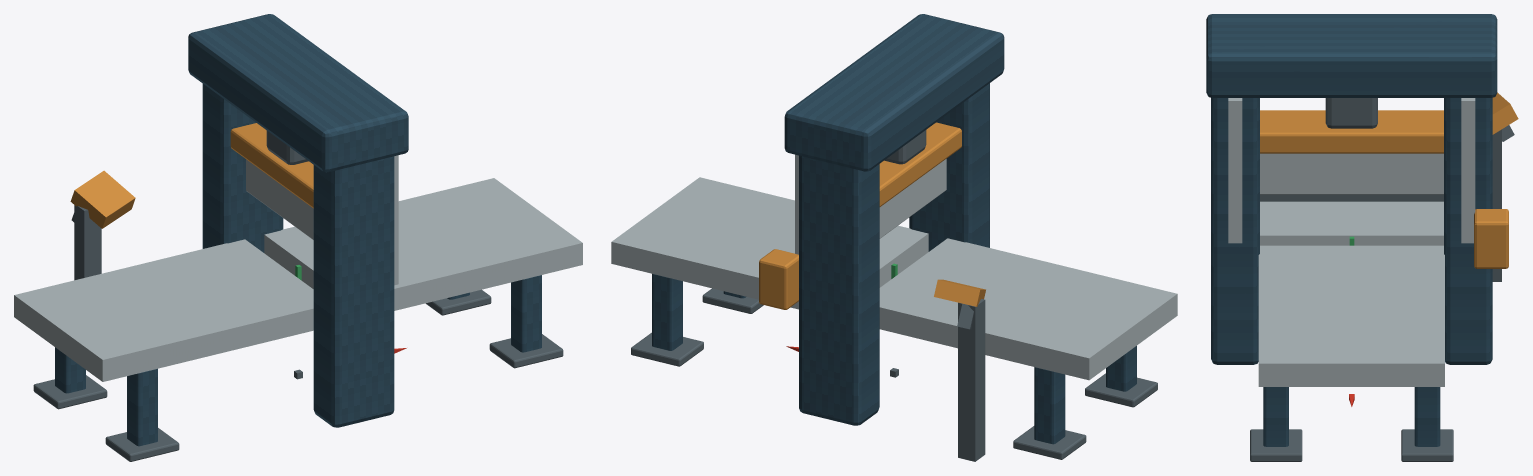
Rendered from shear-lod1.glb.
The picture shows the model from 3 angles, left to right: view 1: azimuth 30°, elevation 25°; view 2: azimuth 150°, elevation 25°; view 3: azimuth 270°, elevation 25°; orthographic projection. The views are drawn at different scales.
Parts seen in each view (by area): view 1: entry_table, right_column, head_beam, exit_table, left_column, blade_carriage, exit_right_leg, entry_right_leg, cutting_tool, service_pad, service_pedestal, exit_right_foot (+6 smaller); view 2: entry_table, left_column, head_beam, exit_table, right_column, service_pedestal, blade_carriage, entry_left_leg, exit_left_leg, cutting_tool, front_control, entry_left_foot (+6 smaller); view 3: exit_table, head_beam, right_column, left_column, entry_table, cutting_tool, blade_carriage, right_guide, left_guide, front_control, hydraulic_body, exit_left_leg (+6 smaller).
Boxes of the visible parts, left/top/right/bottom form: entry_table: left=14, top=239, right=313, bottom=381; right_column: left=313, top=156, right=394, bottom=427; head_beam: left=188, top=14, right=408, bottom=172; exit_table: left=264, top=178, right=582, bottom=310; left_column: left=202, top=84, right=283, bottom=252; blade_carriage: left=230, top=123, right=313, bottom=208; exit_right_leg: left=511, top=275, right=541, bottom=352; entry_right_leg: left=127, top=368, right=157, bottom=446; cutting_tool: left=246, top=159, right=313, bottom=239; service_pad: left=70, top=170, right=135, bottom=228; service_pedestal: left=74, top=205, right=101, bottom=280; exit_right_foot: left=489, top=334, right=563, bottom=368; entry_table: left=879, top=238, right=1177, bottom=380; left_column: left=799, top=155, right=879, bottom=425; head_beam: left=784, top=14, right=1004, bottom=171; exit_table: left=611, top=177, right=928, bottom=309; right_column: left=909, top=83, right=989, bottom=251; service_pedestal: left=958, top=299, right=985, bottom=461; blade_carriage: left=879, top=122, right=961, bottom=206; entry_left_leg: left=1034, top=367, right=1065, bottom=444; exit_left_leg: left=652, top=274, right=682, bottom=350; cutting_tool: left=879, top=159, right=946, bottom=238; front_control: left=759, top=249, right=798, bottom=309; entry_left_foot: left=1013, top=426, right=1086, bottom=459; exit_table: left=1258, top=245, right=1444, bottom=386; head_beam: left=1206, top=14, right=1497, bottom=97; right_column: left=1211, top=98, right=1259, bottom=364; left_column: left=1444, top=98, right=1492, bottom=364; entry_table: left=1260, top=201, right=1443, bottom=245; cutting_tool: left=1260, top=153, right=1443, bottom=194; blade_carriage: left=1260, top=110, right=1443, bottom=153; right_guide: left=1228, top=98, right=1242, bottom=243; left_guide: left=1461, top=98, right=1475, bottom=243; front_control: left=1474, top=209, right=1508, bottom=268; hydraulic_body: left=1325, top=98, right=1377, bottom=128; exit_left_leg: left=1414, top=387, right=1440, bottom=446.
Bounding box in the file's own units: 5 × 3.04 × 2.68.
Materials: 7 (1 with a texture image).
